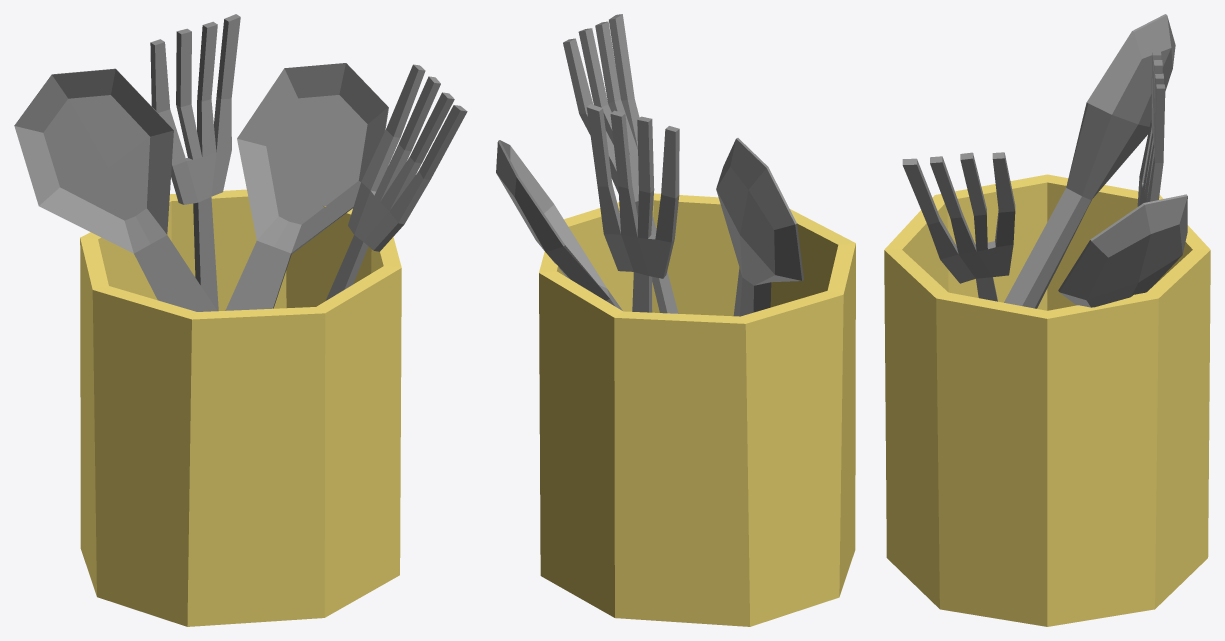
File: Cutlery.fbx
3 renders of one model, left to right at view 1: azimuth 30°, elevation 25°; view 2: azimuth 150°, elevation 25°; view 3: azimuth 270°, elevation 25°, orthographic. The views are drawn at different scales.
Parts seen in each view (by area): view 1: Cutlery; view 2: Cutlery; view 3: Cutlery.
Boxes of the visible parts, left/top/right/bottom form: Cutlery: left=14, top=14, right=467, bottom=626; Cutlery: left=496, top=14, right=855, bottom=626; Cutlery: left=884, top=14, right=1210, bottom=626.
Size of the model in its own units: 21.82 by 18.37 by 31.09.
